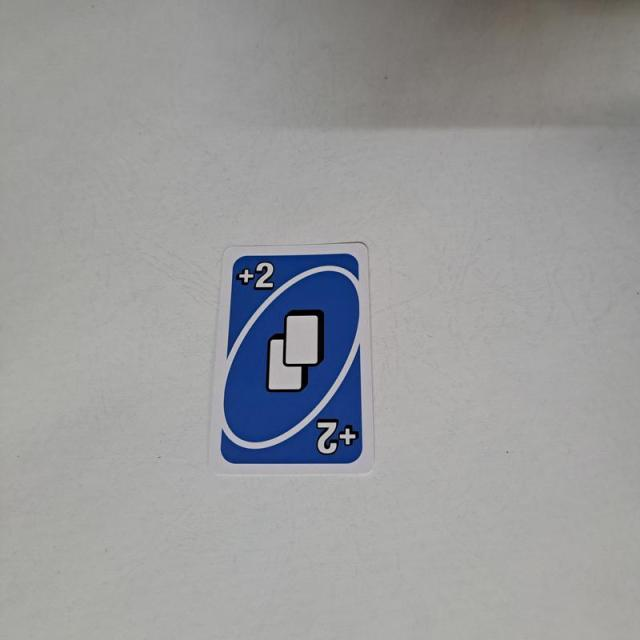Blue_Card: (218, 250, 369, 468)
Draw_Two: (232, 256, 277, 295)
